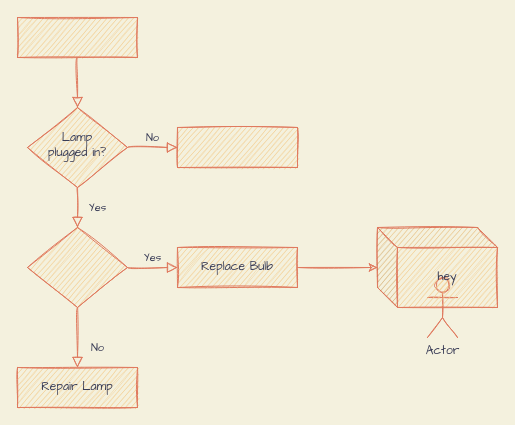
Image size: 515x425. Some labels were removed from this diagram. The centre of each missing label's shape, as x and y in pixels:
"Bulb burned out?" goes at [77,267].
"ha" goes at [237,147].
"Lamp doesn't work" goes at [77,37].
